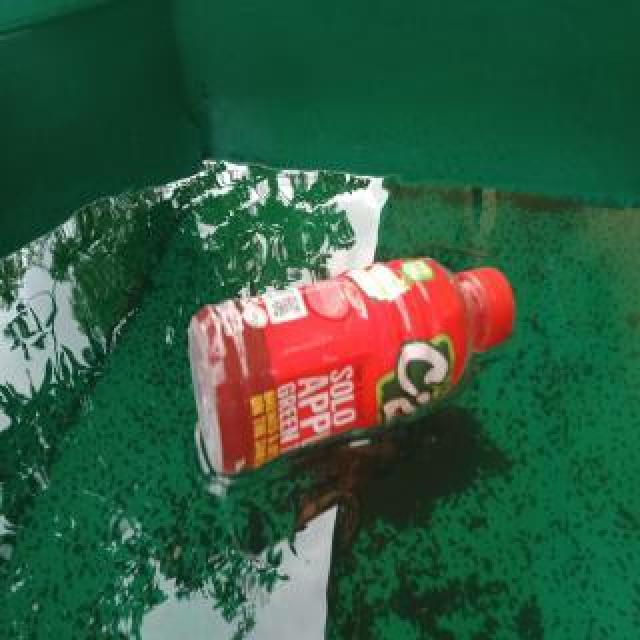bottle: (188, 256, 516, 478)
